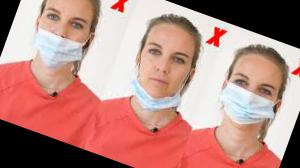mask_weared_incorrect: (126, 37, 196, 115), (29, 0, 93, 69)
with_mask: (216, 67, 282, 136)
